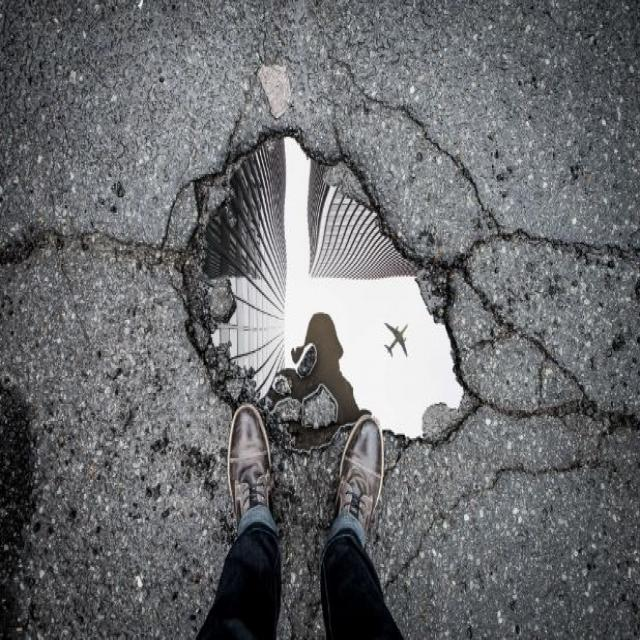pothole: (168, 109, 484, 448)
